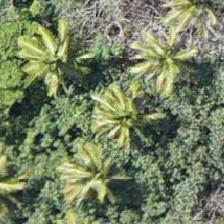coconut_tree: (2, 22, 92, 112), (119, 45, 209, 135), (71, 138, 161, 223), (146, 0, 223, 53)
